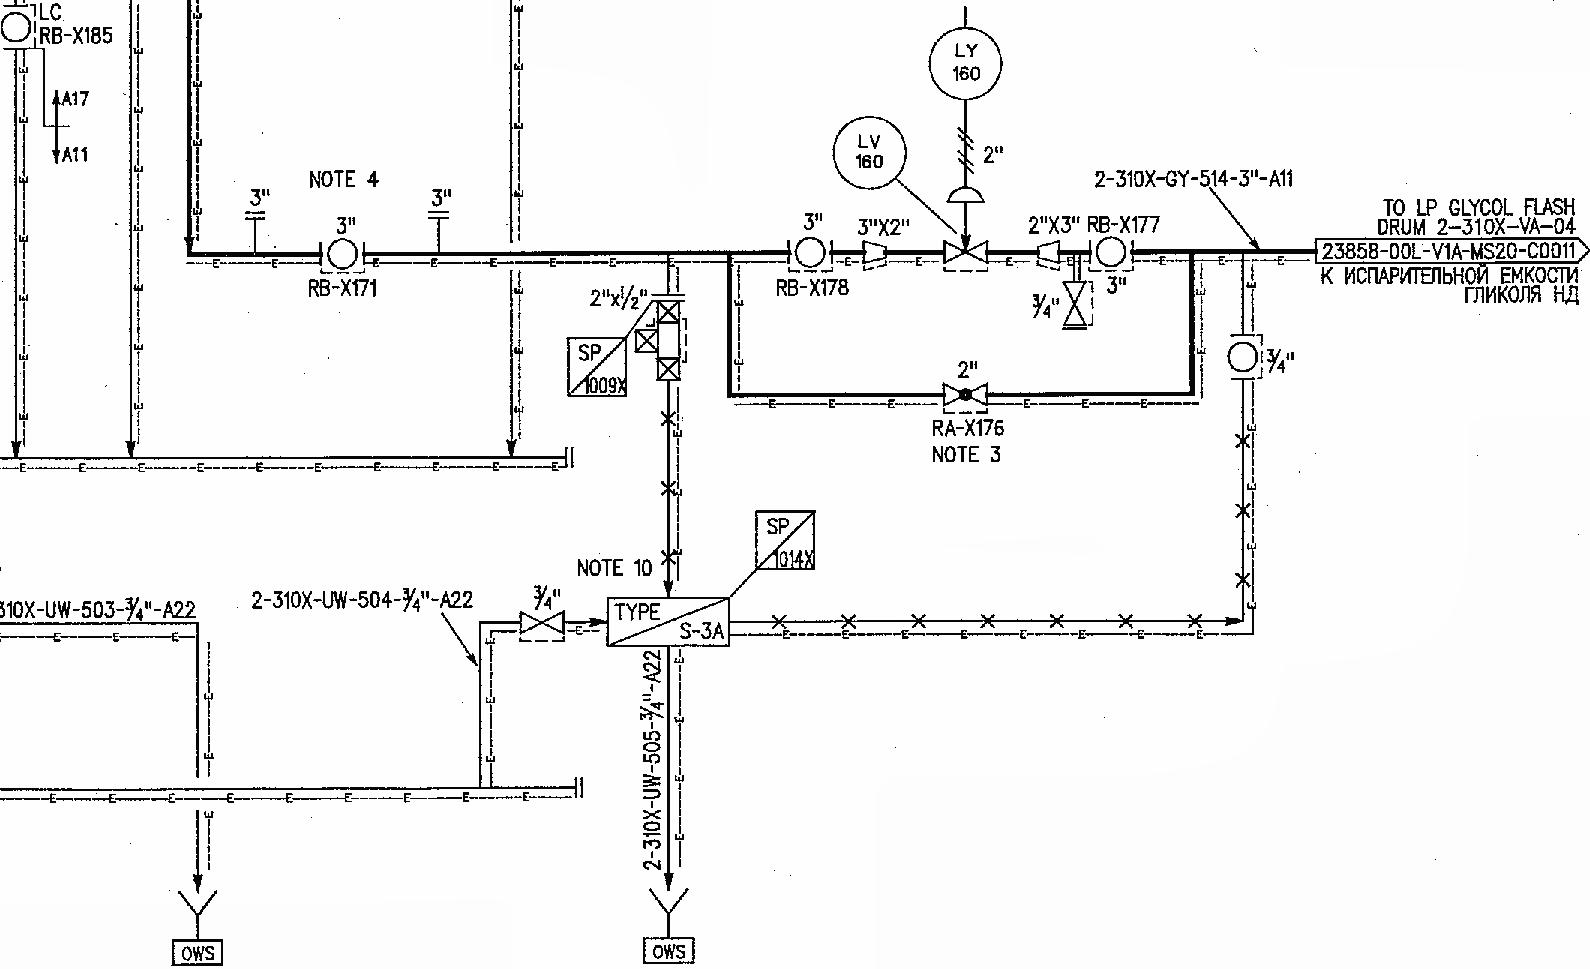2 WAY VALVE: (636, 301, 694, 392)
CONCENTRIC REDUCER: (1032, 233, 1070, 277), (853, 234, 897, 270)
DIAPHRAGM ACTUATED VALVE: (935, 173, 991, 273)
END FLANGED: (570, 766, 592, 808), (240, 206, 273, 224), (421, 207, 455, 223)
FIELD INSTRUMENT: (823, 103, 914, 200), (920, 9, 1004, 111), (785, 234, 837, 273), (1220, 336, 1264, 382), (1087, 233, 1131, 273), (0, 6, 39, 49), (323, 234, 362, 273)
GATE VALVE: (513, 605, 567, 643), (1058, 278, 1096, 328)
GLOBE VALVE: (936, 371, 994, 411)
SPECIAL PIPING ITEM: (600, 588, 740, 660), (746, 503, 829, 577), (559, 333, 634, 403)
TUNDISH OPEN: (168, 882, 231, 937), (643, 880, 694, 933)
